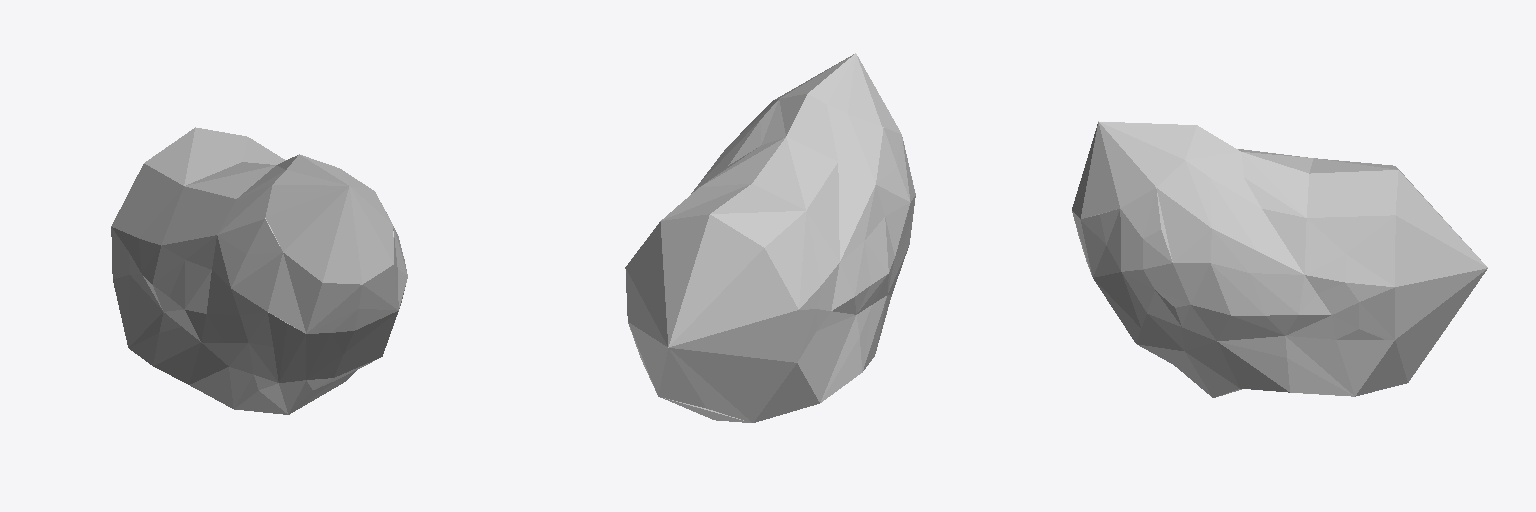
The model's file is body.obj.
The picture shows the model from 3 angles: view 1: azimuth 30°, elevation 25°; view 2: azimuth 150°, elevation 25°; view 3: azimuth 270°, elevation 25°; orthographic projection.
Parts seen in each view (by area): view 1: polySurface481 polySurface478 polySurface475; view 2: polySurface481 polySurface478 polySurface475; view 3: polySurface481 polySurface478 polySurface475.
Part boxes in pixels (x1,y1,x2,y2): polySurface481 polySurface478 polySurface475: (111, 127, 407, 414); polySurface481 polySurface478 polySurface475: (625, 53, 915, 422); polySurface481 polySurface478 polySurface475: (1072, 121, 1487, 397).
Size of the model in its own units: 26.4 by 34.7 by 48.22.